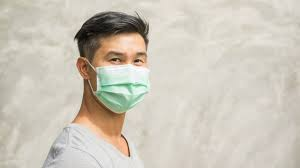with-mask: (78, 17, 153, 116)
